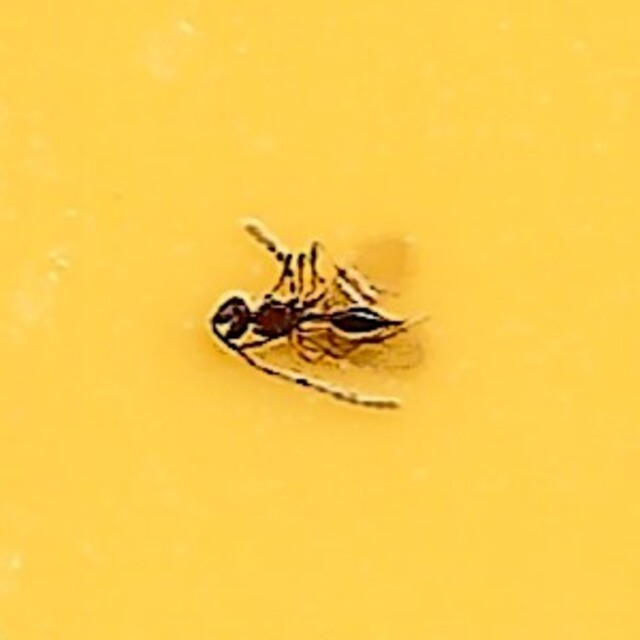Hymenoptera: (213, 223, 427, 417)
